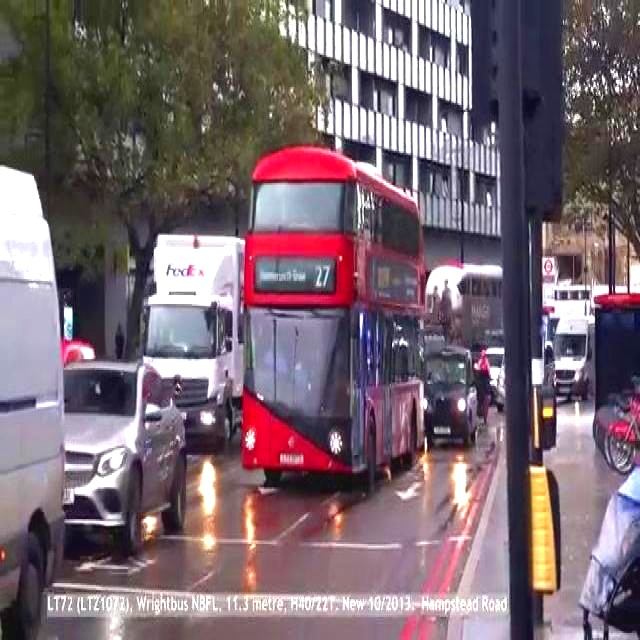bus: (227, 124, 438, 507)
car: (47, 351, 222, 560), (407, 335, 494, 444)
truck: (121, 219, 243, 453)
